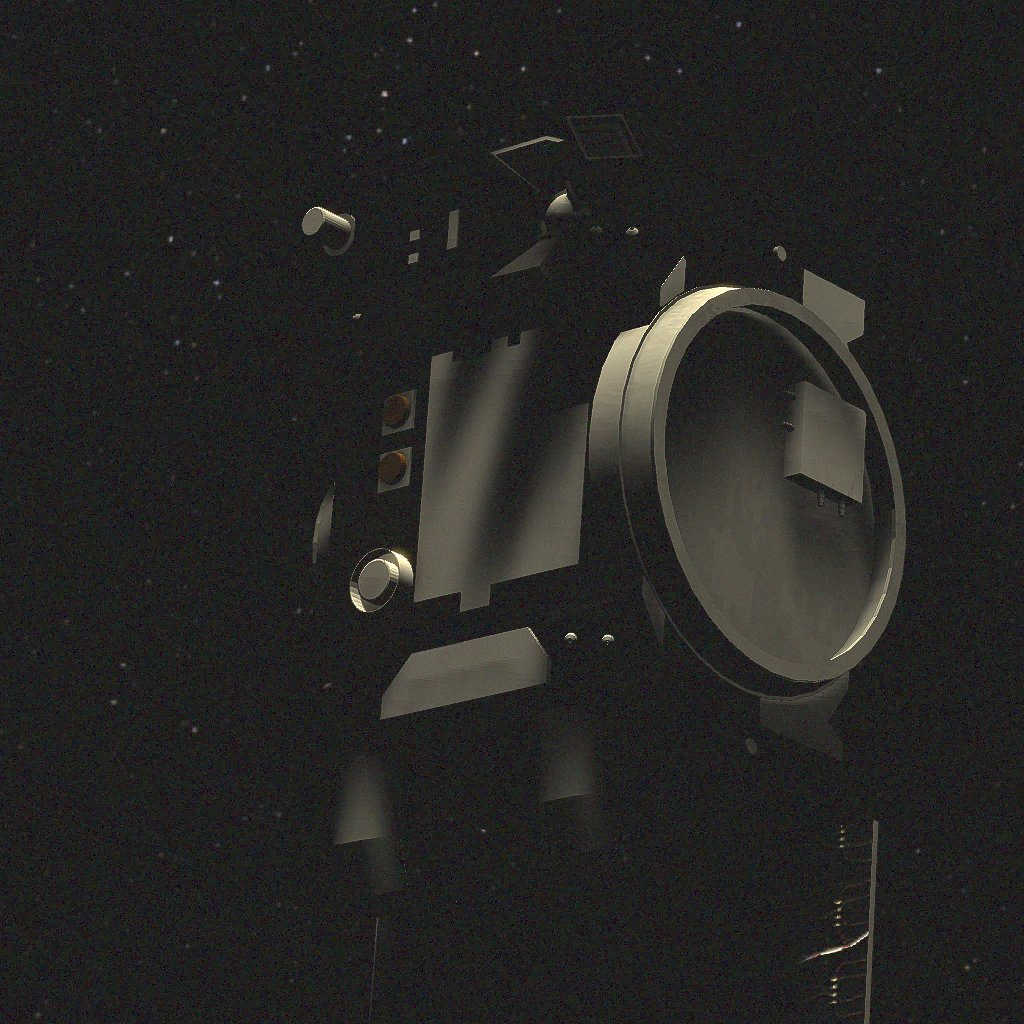proba_3_csc: (302, 112, 906, 1024)
